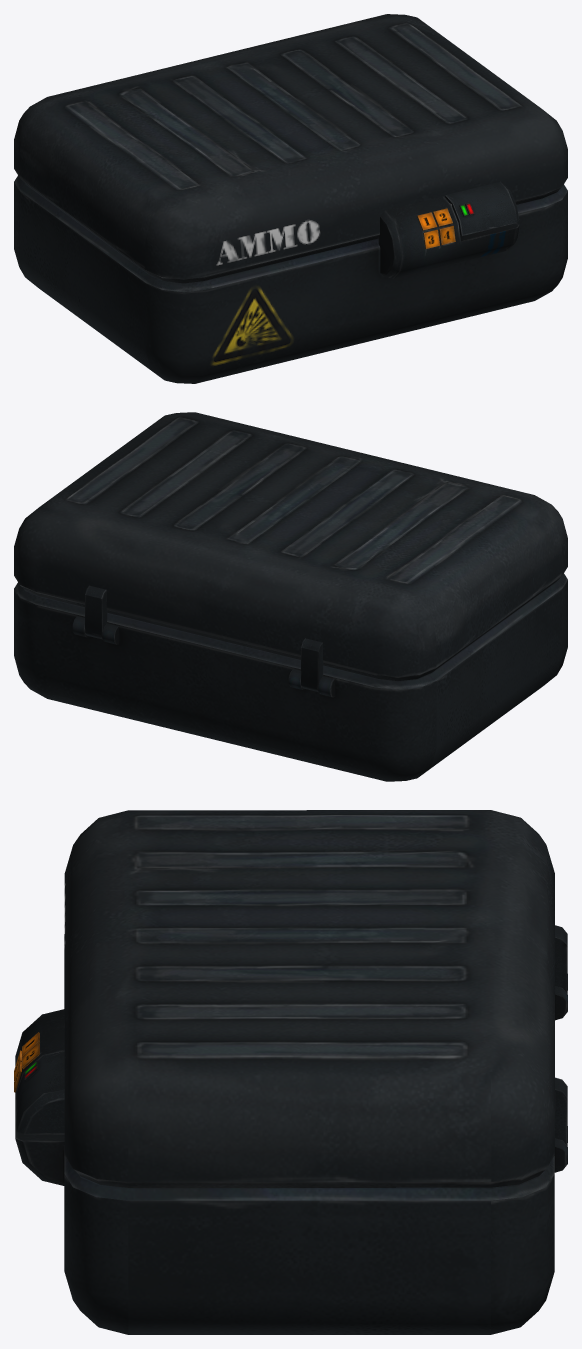
Rendered from grenade_case.fbx.
3 views of the same model, one above another, from view 1: azimuth 30°, elevation 25°; view 2: azimuth 150°, elevation 25°; view 3: azimuth 270°, elevation 25° (orthographic). The views are drawn at different scales.
Visible parts, largest first — view 1: grenade_case_top, grenade_case_bottom; view 2: grenade_case_top, grenade_case_bottom; view 3: grenade_case_top, grenade_case_bottom.
Part boxes in pixels (box(x1,y1,x2,y2)): grenade_case_top: box(14, 14, 567, 283); grenade_case_bottom: box(14, 175, 567, 383); grenade_case_top: box(14, 412, 567, 692); grenade_case_bottom: box(14, 573, 567, 781); grenade_case_top: box(16, 810, 567, 1187); grenade_case_bottom: box(14, 934, 567, 1334).
Bounding box in the file's own units: 11.31 × 4.92 × 9.02.
